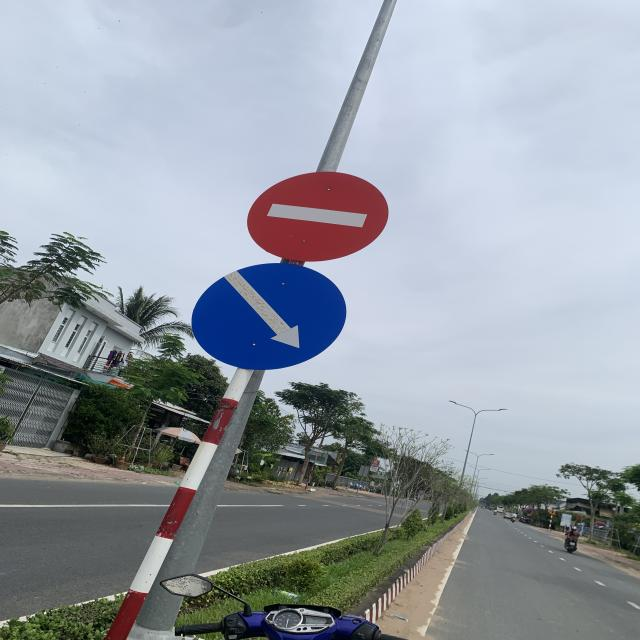Cam_Di_Nguoc_Chieu: (244, 171, 389, 262)
Chi_Huong_Di_Phai: (189, 260, 347, 372)
